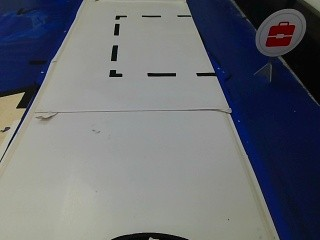company: (253, 10, 305, 58)
